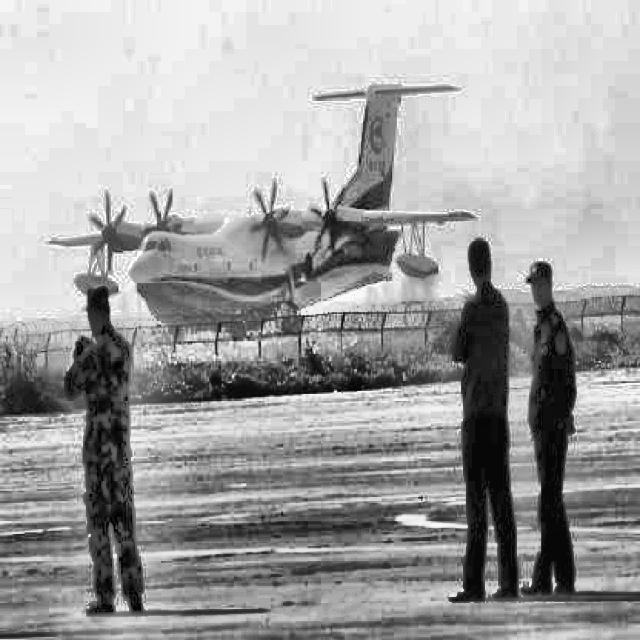AG600: (47, 81, 476, 344)
